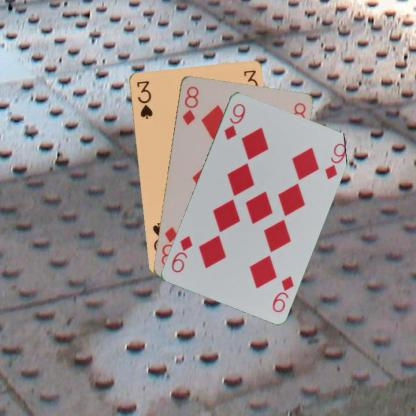3s: (134, 78, 154, 120)
8d: (179, 83, 200, 126)
9d: (269, 272, 295, 314), (221, 100, 247, 141)
